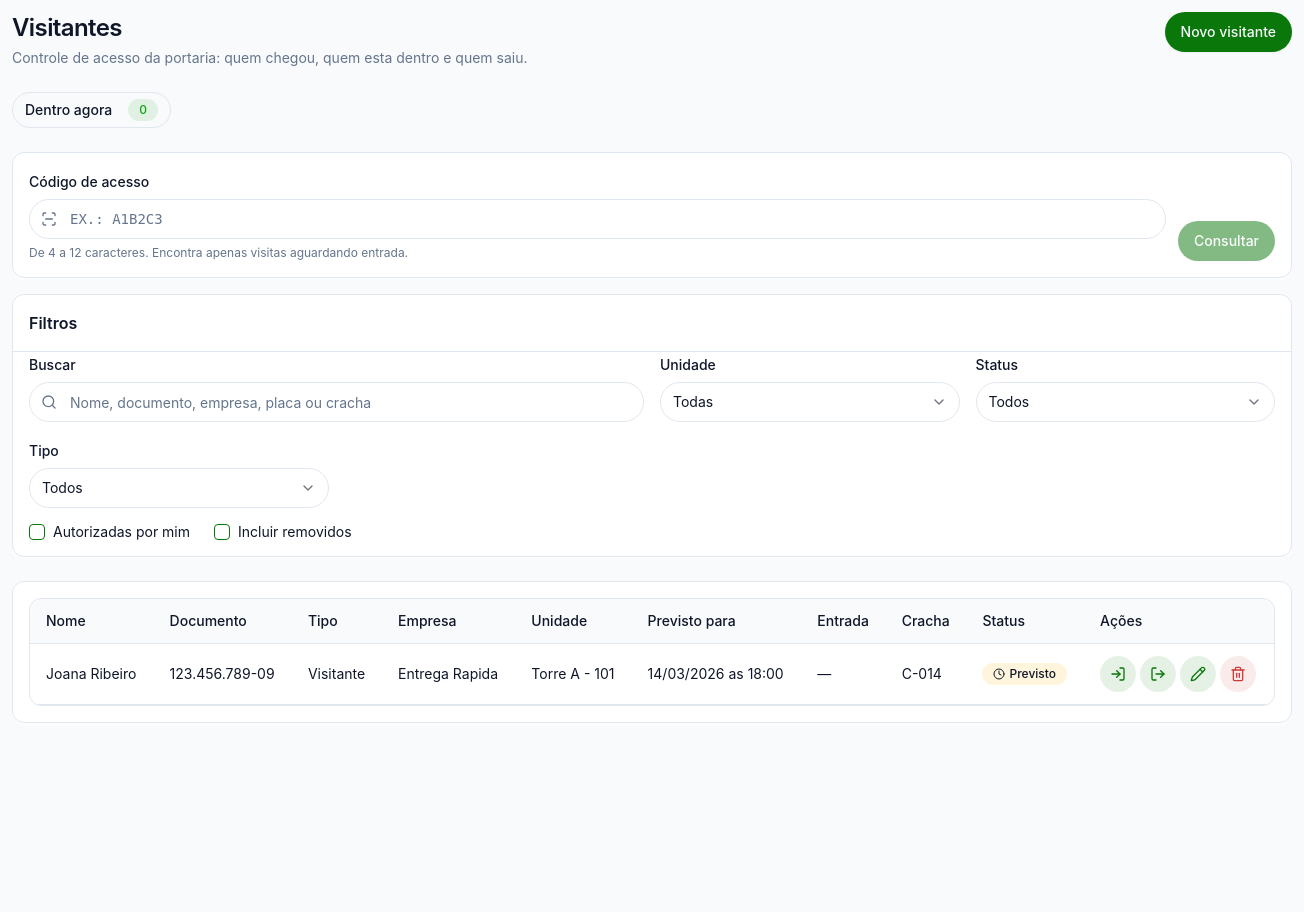
Consulta por código de acesso › encontra a visita aguardando entrada e mostra os dados dela
The image size is (1304, 912).
Expected: the text "Joana Ribeiro" is shown, x1=46 y1=664 x2=136 y2=684
Type "A1B2C3" into the field labelled "Código de acesso" at coordinates (598, 219), box x1=29 y1=199 x2=1166 y2=239
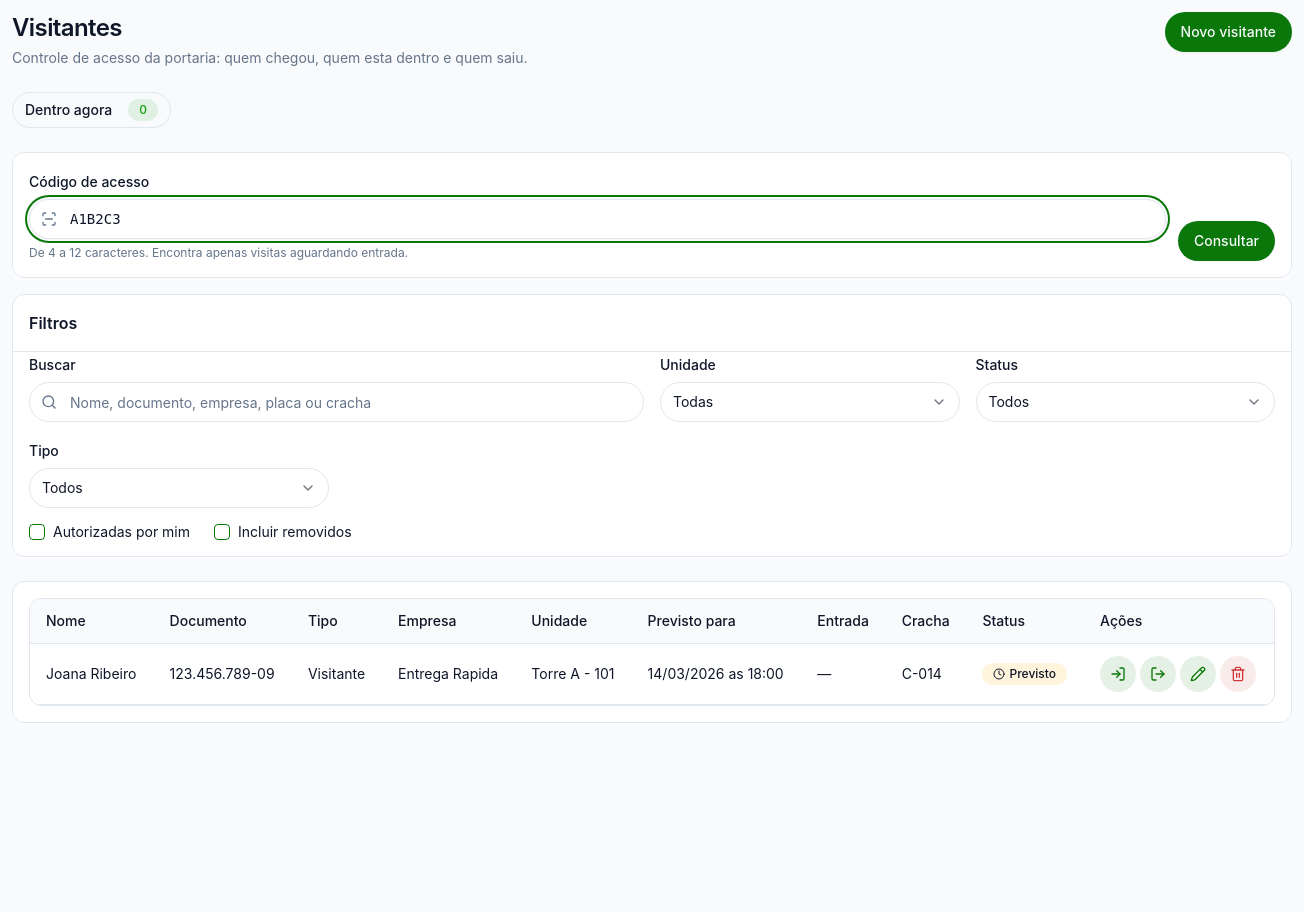
Click the button "Consultar" at coordinates (1226, 241), box x1=1178 y1=221 x2=1275 y2=261
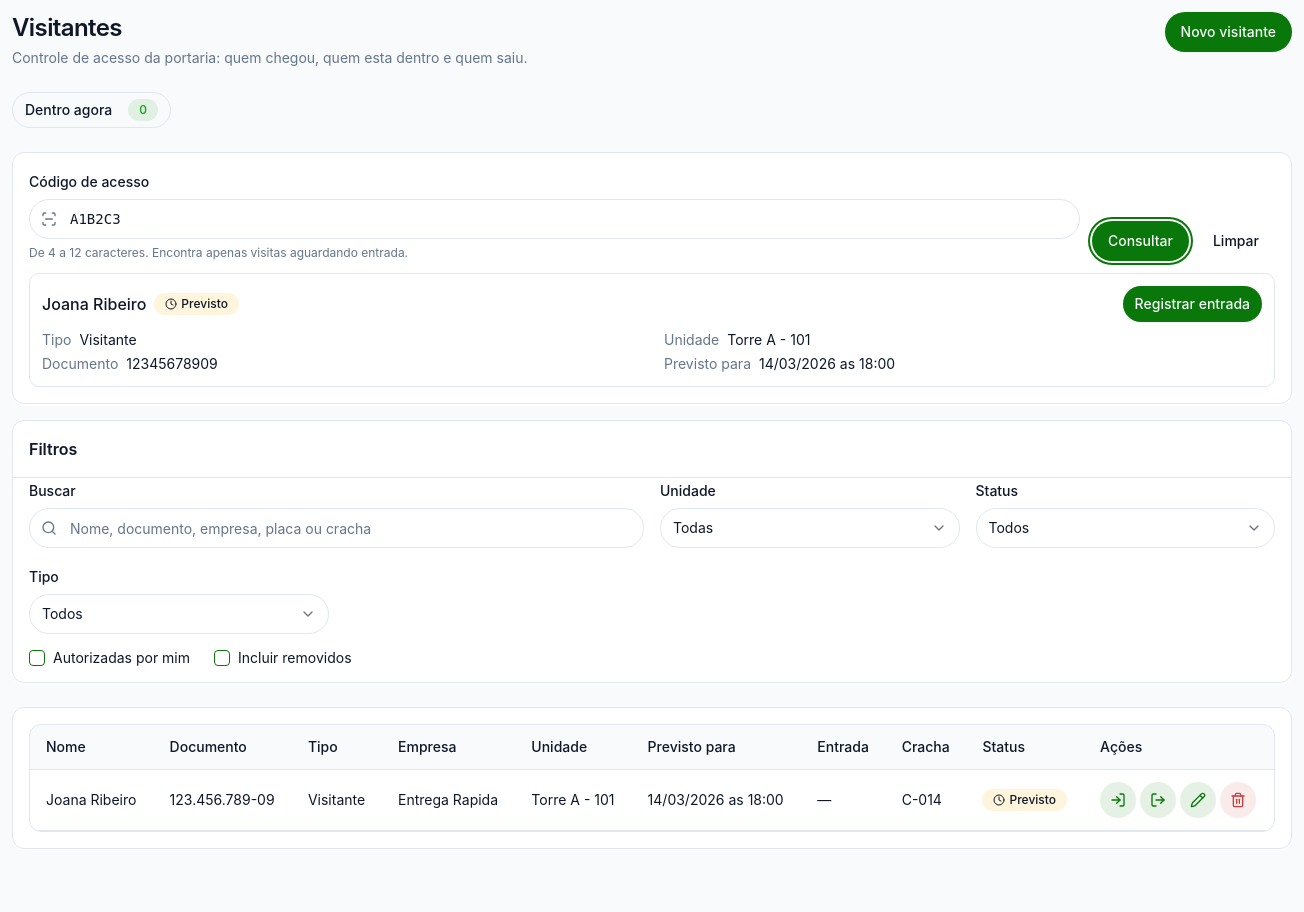
Result: the text "Joana Ribeiro" below "Código de acesso" is shown at x1=42 y1=294 x2=146 y2=314
